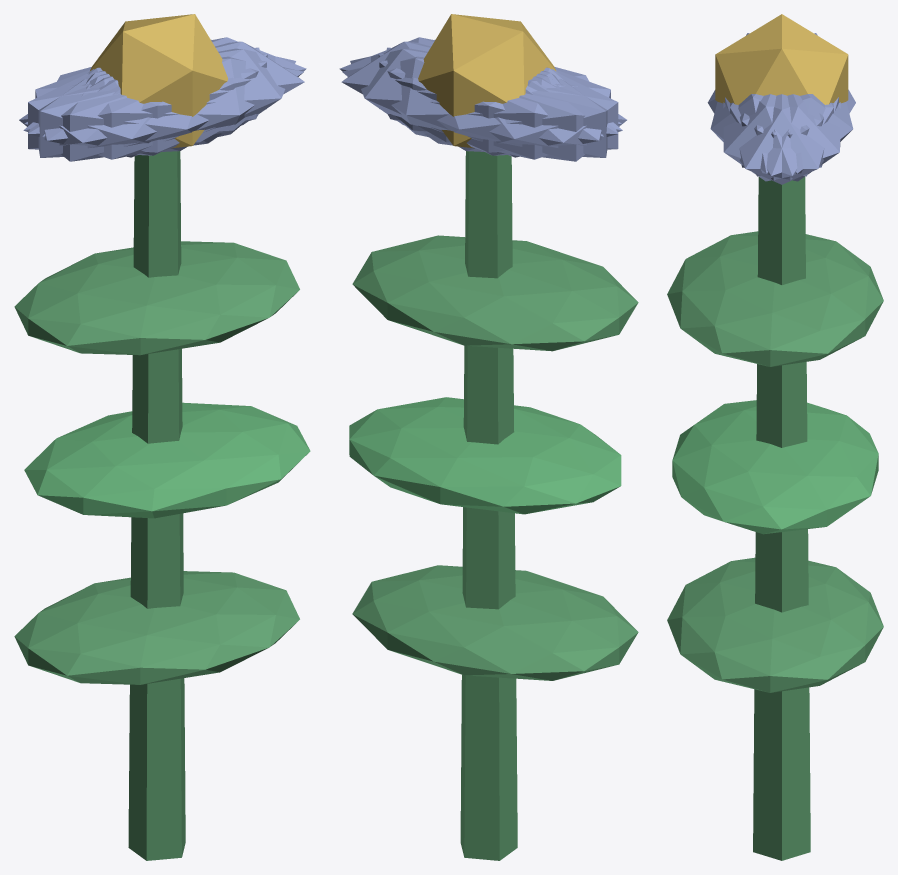
File: hamelia-patens.glb
The picture shows the model from 3 angles, left to right: view 1: azimuth 30°, elevation 25°; view 2: azimuth 150°, elevation 25°; view 3: azimuth 270°, elevation 25°; orthographic projection.
Visible parts, largest first — view 1: stem, leaf2, leaf1, leaf0, center, petal1, petal6, petal2, petal5, petal7, petal0, petal4 (+2 smaller); view 2: stem, leaf2, leaf0, leaf1, center, petal8, petal3, petal7, petal4, petal2, petal0, petal5 (+2 smaller); view 3: stem, leaf2, leaf1, leaf0, center, petal0, petal4, petal5, petal1, petal8.
Part boxes in pixels (x1,y1,x2,y2): stem: [128, 151, 185, 860]; leaf2: [14, 241, 299, 355]; leaf1: [24, 402, 310, 518]; leaf0: [14, 571, 299, 684]; center: [90, 14, 227, 148]; petal1: [23, 56, 303, 159]; petal6: [19, 69, 221, 161]; petal2: [38, 47, 259, 157]; petal5: [42, 48, 295, 152]; petal7: [28, 53, 267, 155]; petal0: [89, 41, 304, 142]; petal4: [24, 37, 306, 134]; stem: [460, 151, 517, 860]; leaf2: [352, 235, 638, 351]; leaf0: [352, 565, 638, 680]; leaf1: [349, 397, 621, 514]; center: [418, 14, 556, 148]; petal8: [342, 56, 622, 159]; petal3: [424, 69, 626, 161]; petal7: [386, 47, 607, 157]; petal4: [350, 48, 603, 152]; petal2: [378, 53, 618, 155]; petal0: [341, 41, 556, 142]; petal5: [339, 37, 621, 134]; stem: [753, 177, 810, 860]; leaf2: [667, 231, 883, 366]; leaf1: [672, 400, 878, 534]; leaf0: [667, 557, 883, 692]; center: [715, 14, 848, 104]; petal0: [725, 94, 838, 184]; petal4: [730, 94, 840, 181]; petal5: [723, 94, 833, 181]; petal1: [710, 94, 823, 173]; petal8: [740, 94, 853, 173].
Bounding box in the file's own units: 0.1452 × 0.4151 × 0.0999.
